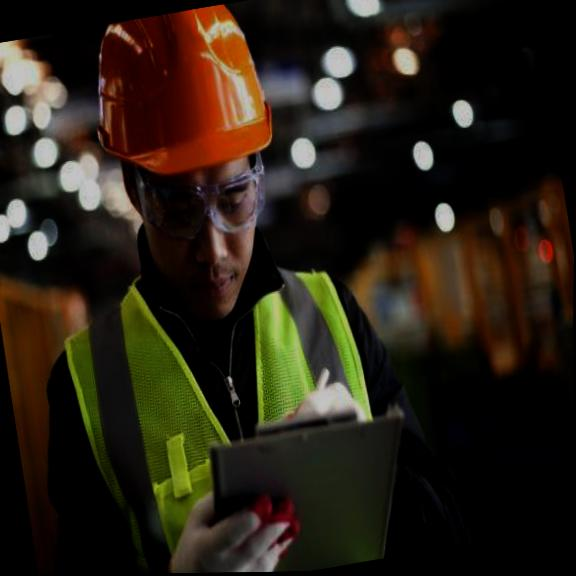safety_vest: (48, 257, 407, 575)
